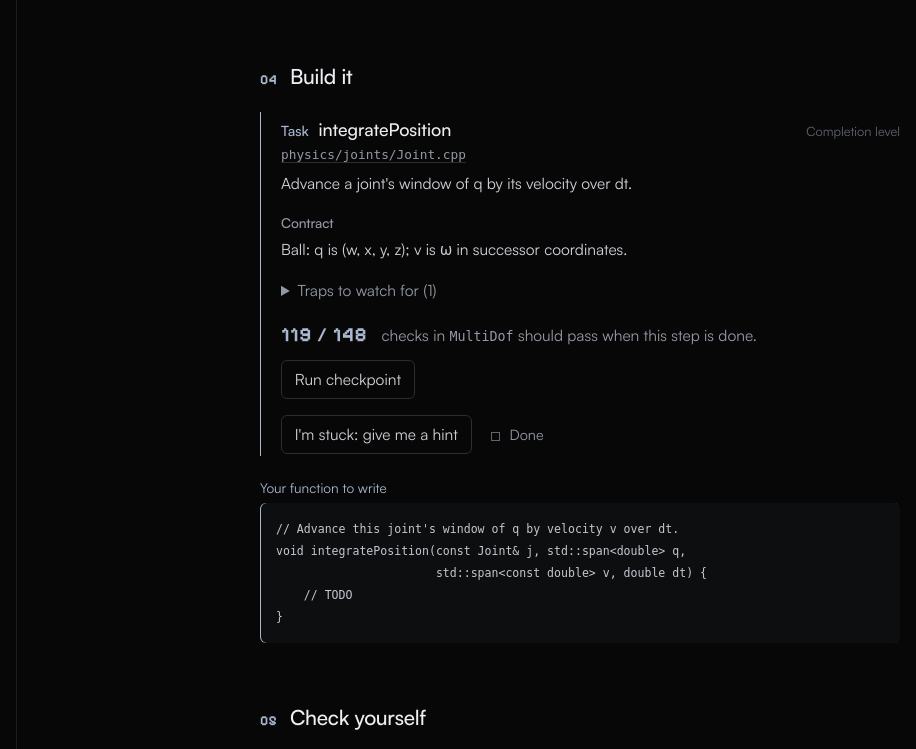
Test case: checkpoints in a task › says when a run was stopped, and shows errors
The image size is (916, 749).
(page scrolled)
What coordinates should you click on to do the following:
click the button "Run checkpoint"
I would click on:
 (348, 380)
Its box is [281, 360, 415, 399].
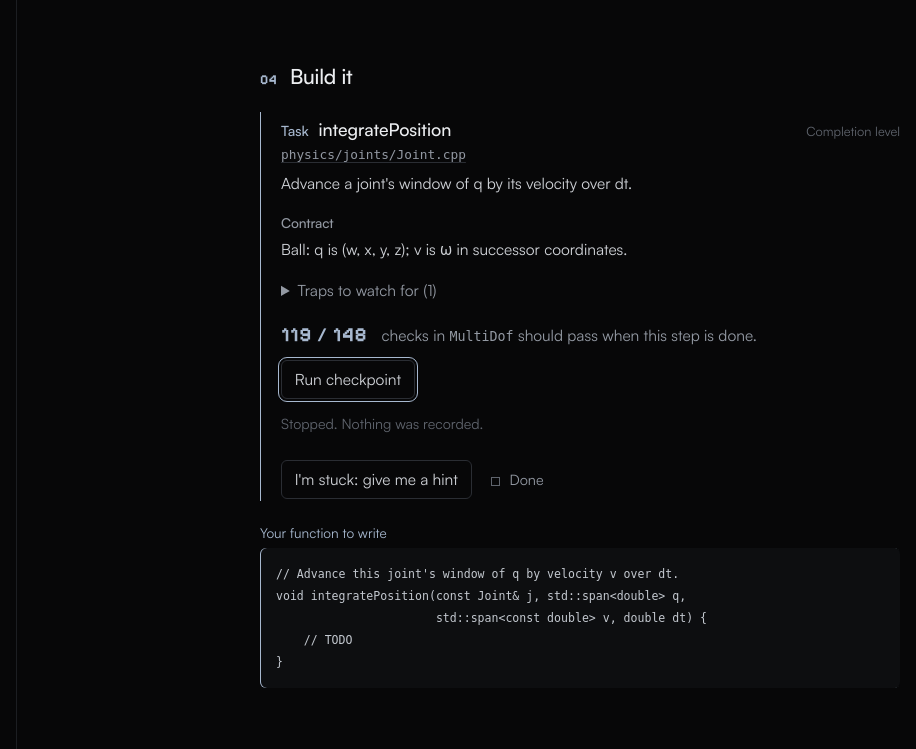
Result: the text "Stopped. Nothing was recorded." is shown at [281, 415, 483, 432]
What coordinates should you click on to do the following:
click the button "Run checkpoint"
I would click on:
 (348, 380)
Its box is [281, 360, 415, 399].
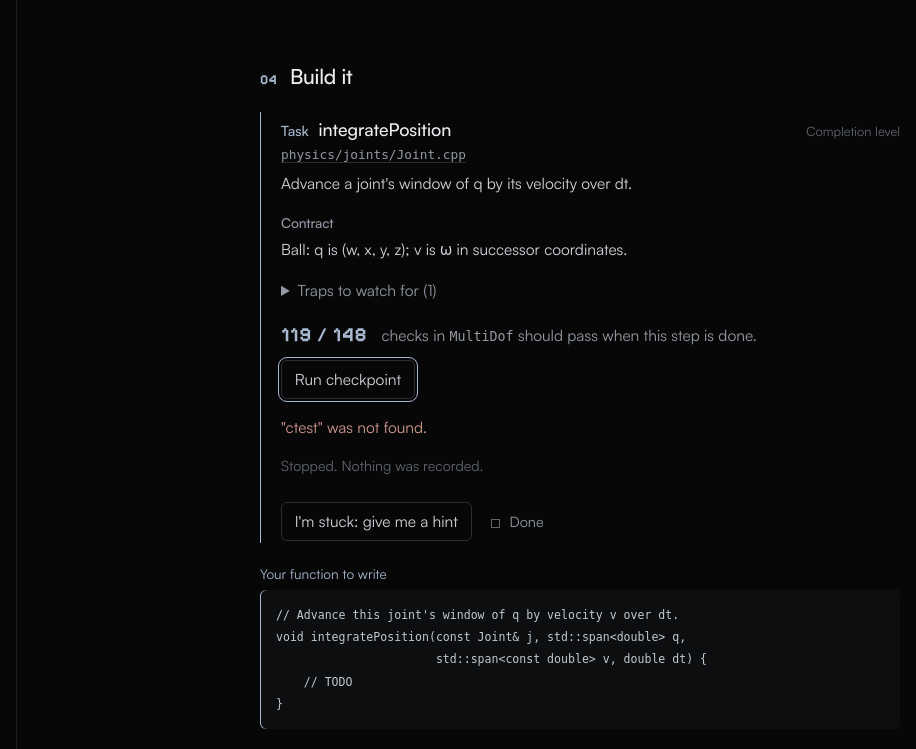
Result: the message reads "\"ctest\" was not found." at [281, 417, 427, 437]
